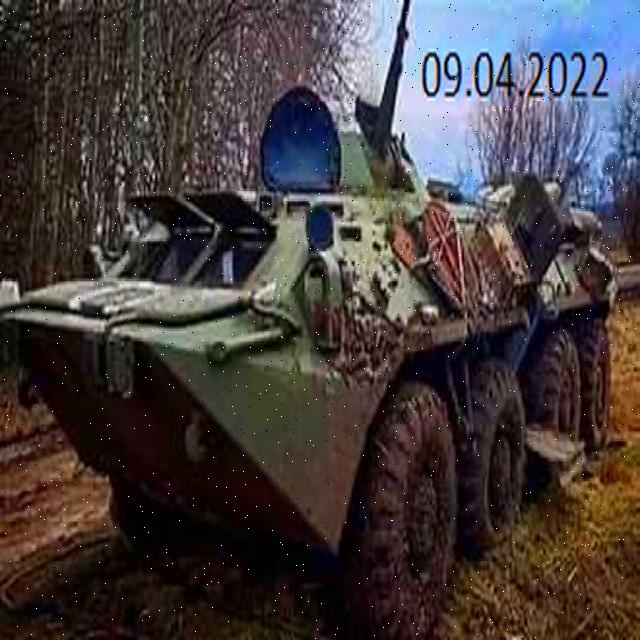APC-IFV: (0, 0, 609, 633)
